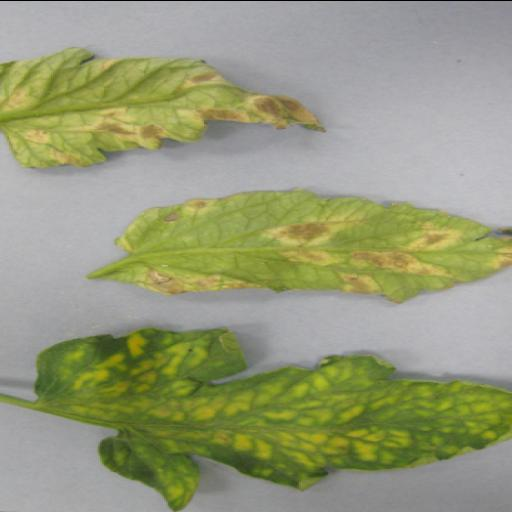disease_tomato: (105, 187, 512, 306), (0, 45, 324, 170)
